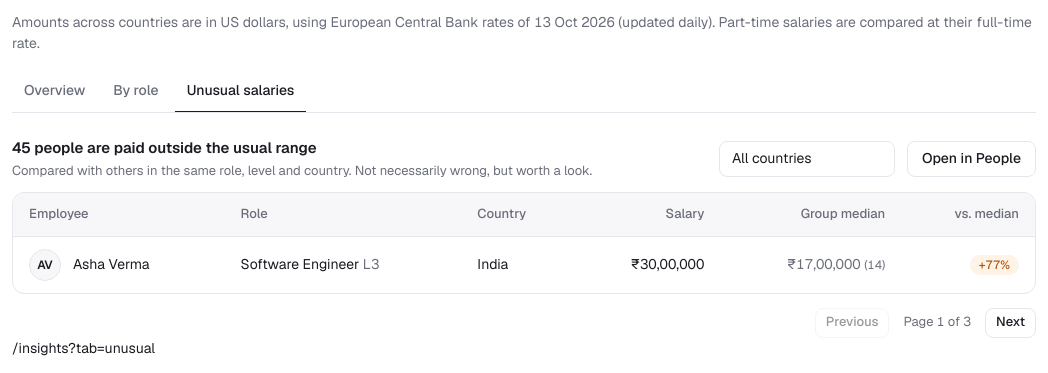
Test: Unusual salaries › filters by country and pages through the list
Expected: the text "Page 1 of 3" is shown, [903,313,971,330]
Expected: the button "Previous" is disabled, [815,308,889,338]
Click the button "Next". click: (1011, 323)
box: [985,308,1036,338]
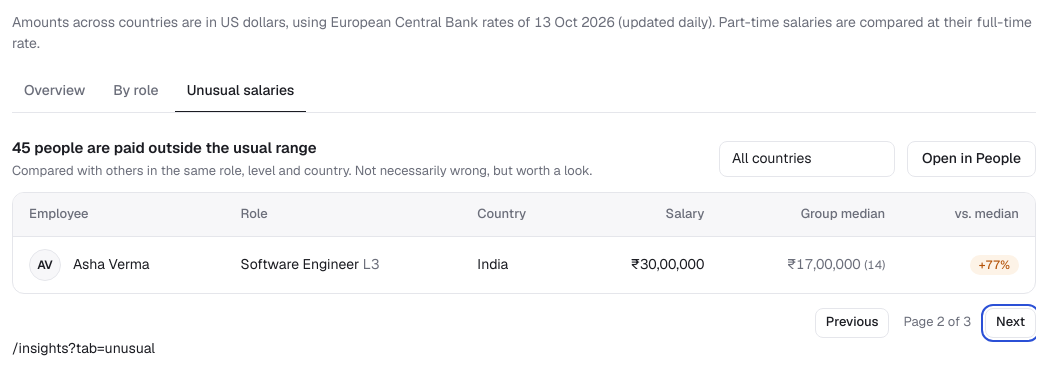
Expected: the text "Page 2 of 3" is shown, [903,313,971,330]
Select "India" in the dropdown named "Country". click: (807, 158)
box: [719,140,895,176]
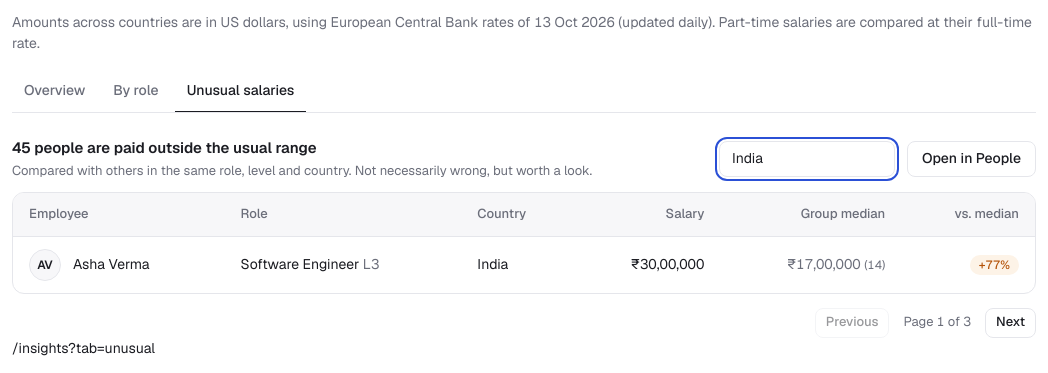
Expected: the text "Page 1 of 3" is shown, [903,313,971,330]
